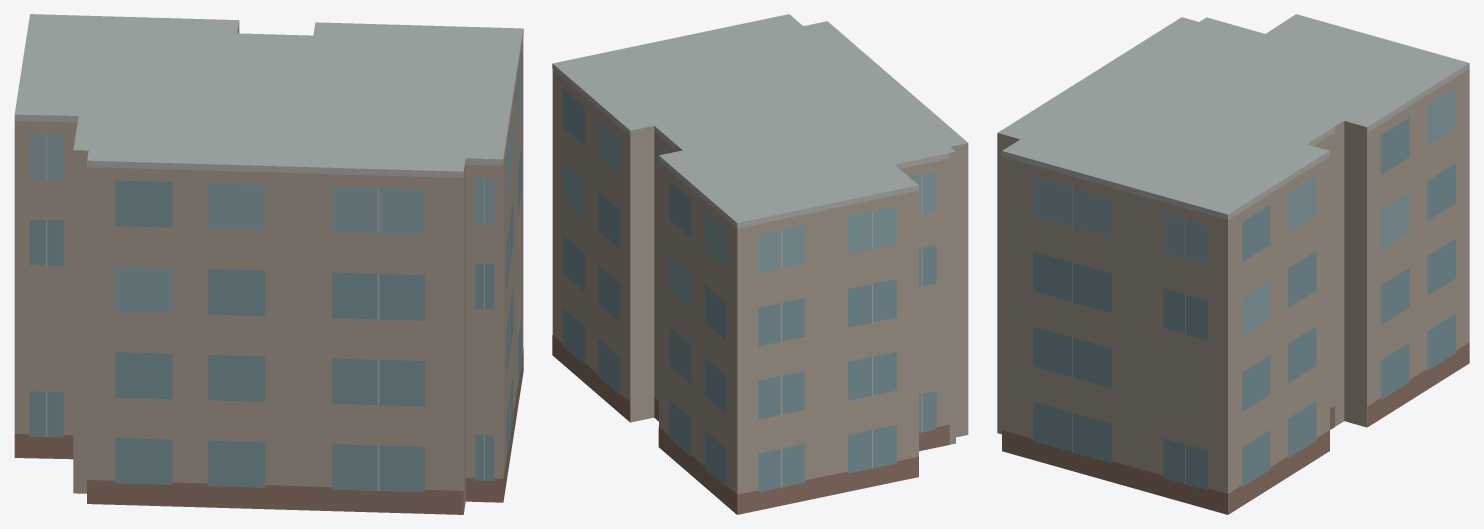
File: survey-upis-32860726.glb
The picture shows the model from 3 angles, left to right: view 1: azimuth 30°, elevation 25°; view 2: azimuth 150°, elevation 25°; view 3: azimuth 270°, elevation 25°; orthographic projection. The views are drawn at different scales.
Visible parts, largest first — view 1: survey-upis-32860726.tmp; view 2: survey-upis-32860726.tmp; view 3: survey-upis-32860726.tmp.
Boxes of the visible parts, x1,y1,x2,y2 form: survey-upis-32860726.tmp: (14,14,523,514); survey-upis-32860726.tmp: (552,14,968,514); survey-upis-32860726.tmp: (997,14,1469,514).
Bounding box in the file's own units: 18.67 × 13.02 × 18.57.
